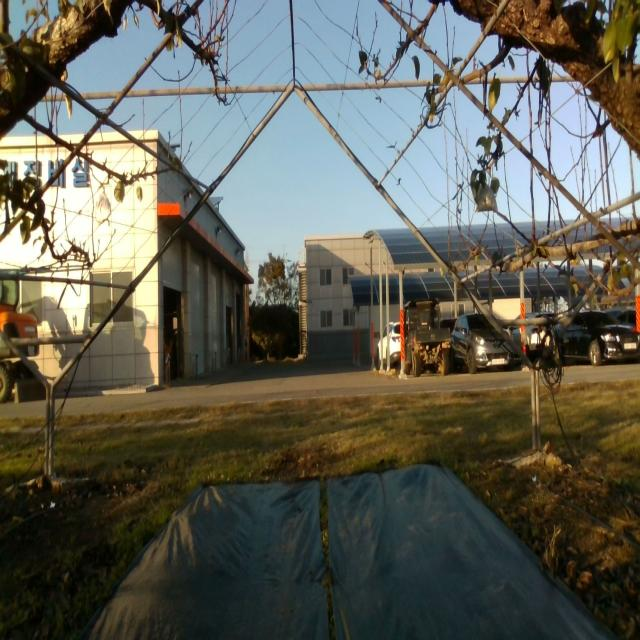pearbags: (473, 184, 498, 217), (94, 193, 112, 225)
